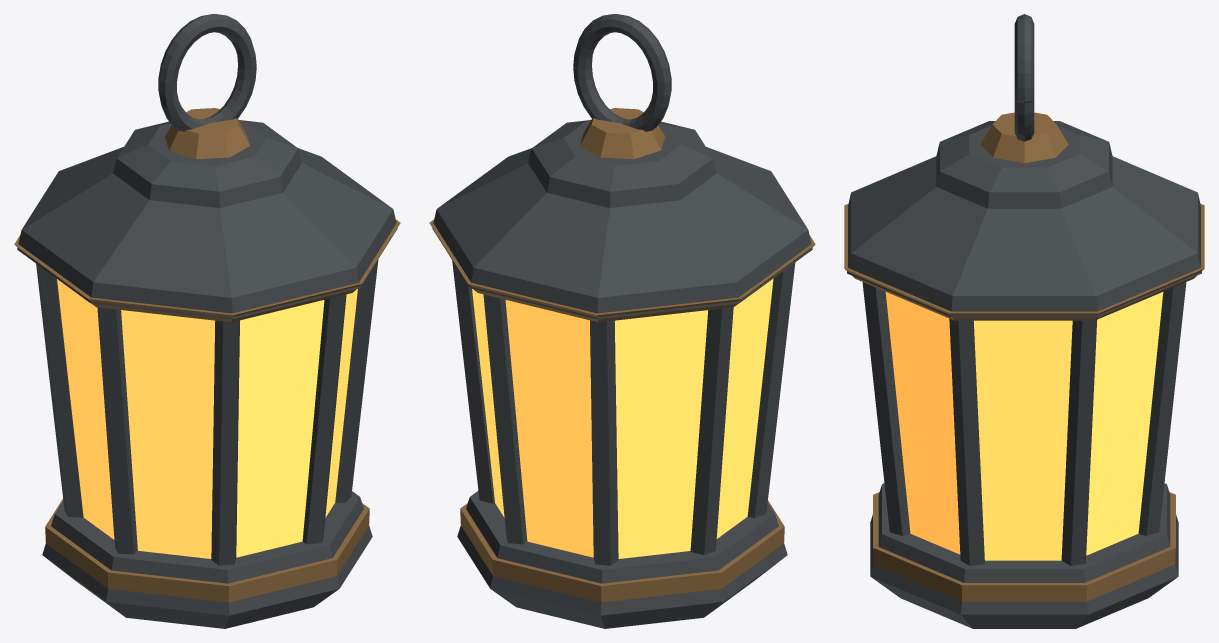
The model's file is ships_lantern.gltf.
3 renders of one model, left to right at view 1: azimuth 30°, elevation 25°; view 2: azimuth 150°, elevation 25°; view 3: azimuth 270°, elevation 25°, orthographic.
Parts seen in each view (by area): view 1: ships_lantern; view 2: ships_lantern; view 3: ships_lantern.
Boxes of the visible parts, x1=… form: ships_lantern: x1=14, y1=14, x2=400, y2=628; ships_lantern: x1=429, y1=14, x2=815, y2=628; ships_lantern: x1=844, y1=14, x2=1204, y2=628.
Size of the model in its own units: 0.4841 by 0.8818 by 0.4841.
